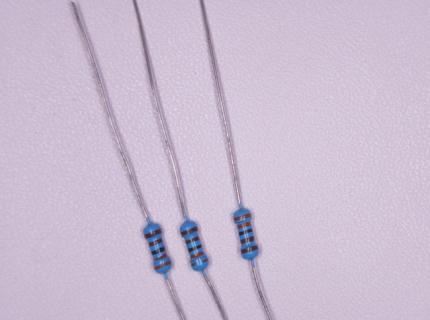Black band: (151, 246, 166, 255), (188, 244, 202, 253), (238, 228, 253, 236)
Brown band: (144, 228, 162, 239), (180, 226, 198, 236), (241, 245, 258, 254), (185, 236, 200, 245), (149, 238, 163, 247), (240, 236, 255, 244)
Orange band: (154, 260, 172, 271), (233, 213, 252, 222), (191, 258, 209, 267), (153, 253, 168, 261), (237, 221, 252, 229), (190, 251, 205, 258)
